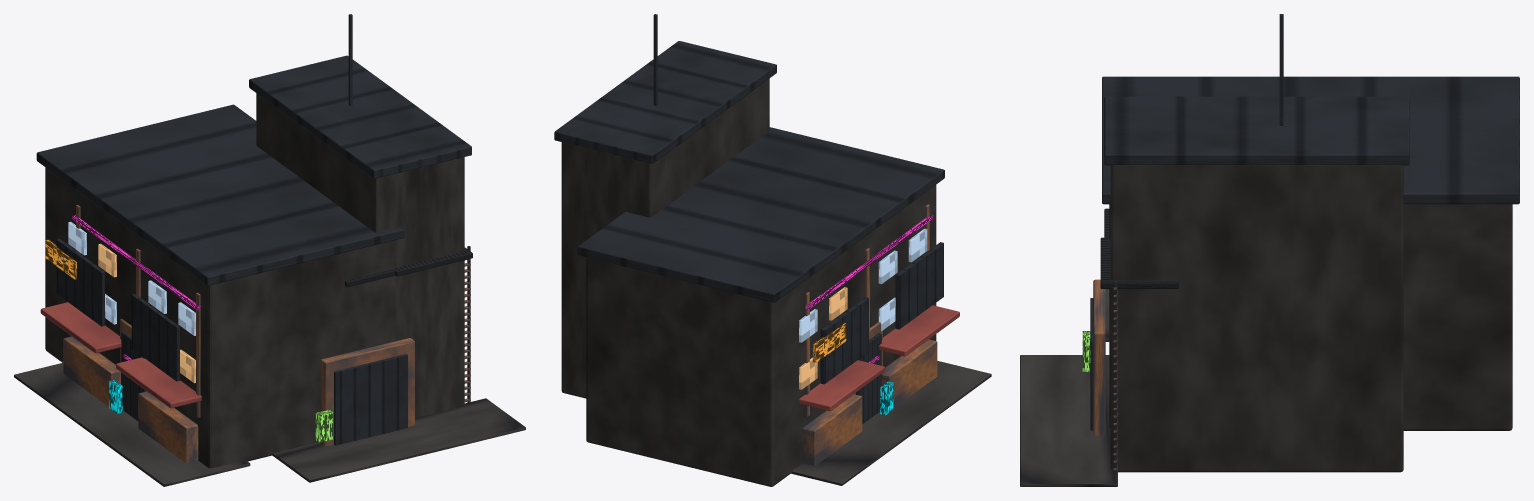
File: Hesperus_BazaarSafehouse.glb
3 renders of one model, left to right at view 1: azimuth 30°, elevation 25°; view 2: azimuth 150°, elevation 25°; view 3: azimuth 270°, elevation 25°, orthographic. The views are drawn at different scales.
Visible parts, largest first — view 1: BS_MarketHall_Mass, BS_MarketHall_RoofCap, BS_ServiceTower_Mass, BS_ServiceTower_RoofCap, BS_RearServiceApron, BS_StreetApron, BS_ServiceDoor, BS_StreetShutter_A, BS_Stall_0_Counter, BS_ServiceDoorFrame, BS_StreetShutter_B, BS_Stall_1_Counter (+8 smaller); view 2: BS_MarketHall_Mass, BS_MarketHall_RoofCap, BS_ServiceTower_Mass, BS_ServiceTower_RoofCap, BS_StreetApron, BS_StreetShutter_A, BS_Stall_1_Counter, BS_StreetShutter_B, BS_Stall_0_Counter, BS_Stall_1_Awning, BS_Stall_0_Awning, BS_HunterCacheDoor (+5 smaller); view 3: BS_ServiceTower_Mass, BS_MarketHall_Mass, BS_MarketHall_RoofCap, BS_ServiceTower_RoofCap, BS_RearServiceApron, BS_ServiceDoorFrame, BS_RoofLanding, BS_RoofLadderRail_R, BS_RoofAntenna, BS_ServiceDoor.
Boxes of the visible parts, x1,y1,x2,y2 form: BS_MarketHall_Mass: (45,167,395,468); BS_MarketHall_RoofCap: (36,104,404,285); BS_ServiceTower_Mass: (256,93,464,418); BS_ServiceTower_RoofCap: (249,55,471,178); BS_RearServiceApron: (272,398,525,482); BS_StreetApron: (14,363,250,486); BS_ServiceDoor: (334,354,407,445); BS_StreetShutter_A: (131,294,179,381); BS_Stall_0_Counter: (138,391,198,463); BS_ServiceDoorFrame: (321,338,414,446); BS_StreetShutter_B: (56,239,104,326); BS_Stall_1_Counter: (63,336,120,406); BS_MarketHall_Mass: (586,185,936,486); BS_MarketHall_RoofCap: (577,127,944,302); BS_ServiceTower_Mass: (561,78,769,398); BS_ServiceTower_RoofCap: (554,41,776,163); BS_StreetApron: (791,361,991,485); BS_StreetShutter_A: (895,242,943,329); BS_Stall_1_Counter: (802,394,862,465); BS_StreetShutter_B: (820,297,868,384); BS_Stall_0_Counter: (881,339,937,408); BS_Stall_1_Awning: (799,360,884,411); BS_Stall_0_Awning: (879,305,959,356); BS_HunterCacheDoor: (856,333,881,423); BS_ServiceTower_Mass: (1110,165,1403,472); BS_MarketHall_Mass: (1109,204,1512,430); BS_MarketHall_RoofCap: (1102,76,1519,204); BS_ServiceTower_RoofCap: (1104,96,1409,165); BS_RearServiceApron: (1020,355,1117,486); BS_ServiceDoorFrame: (1093,279,1105,435); BS_RoofLanding: (1100,237,1178,288); BS_RoofLadderRail_R: (1113,281,1116,473); BS_RoofAntenna: (1279,14,1283,125); BS_ServiceDoor: (1090,298,1093,430).
Bounding box in the file's own units: 19.05 × 19.5 × 20.45.
12 materials, 12 textured.
